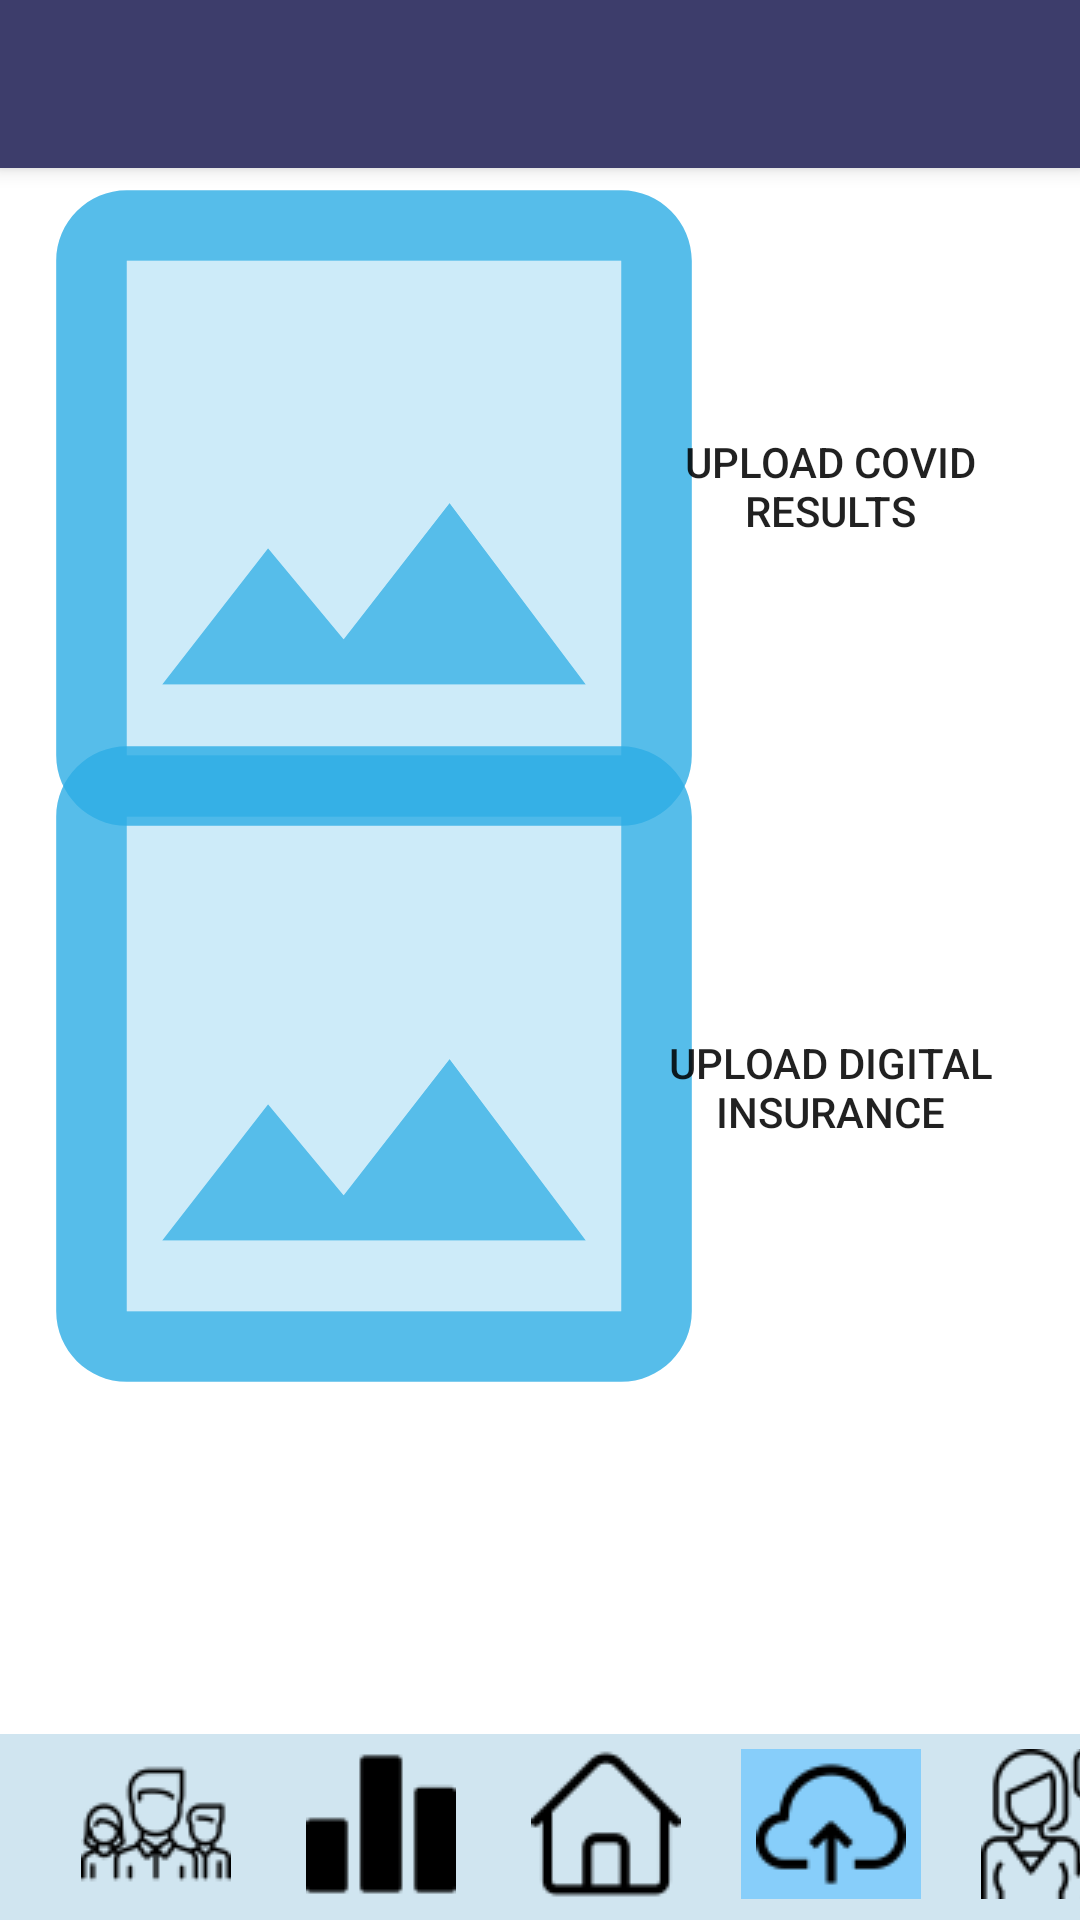

Screen size 1080px x 1920px. Icon name, then its center in pixels as (x=x, y=y):
housez: (x=606, y=1824)
statisticalz: (x=381, y=1824)
teamz: (x=156, y=1823)
uploadz: (x=831, y=1824)
